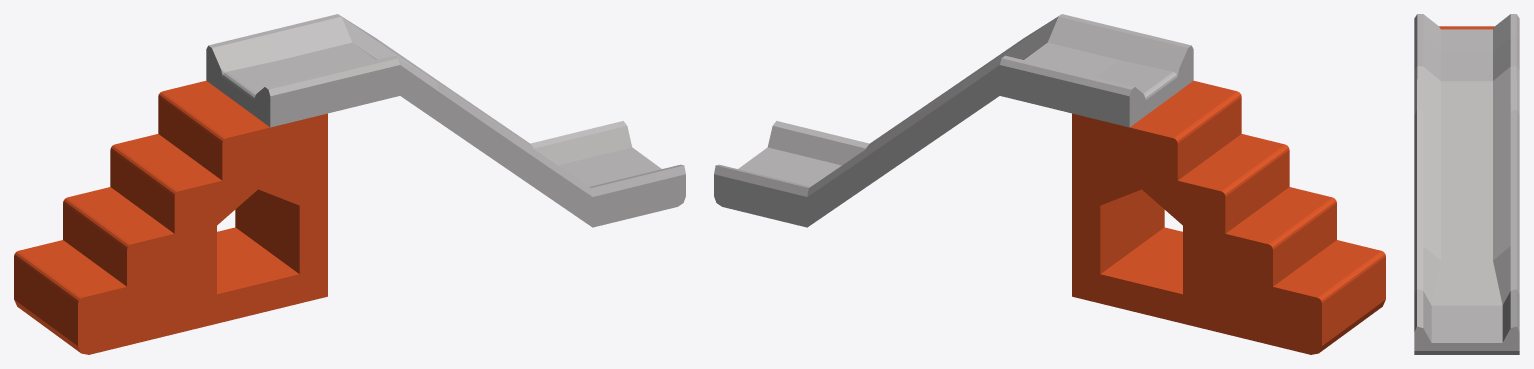
Rendered from Slider.fbx.
The picture shows the model from 3 angles, left to right: view 1: azimuth 30°, elevation 25°; view 2: azimuth 150°, elevation 25°; view 3: azimuth 270°, elevation 25°; orthographic projection. The views are drawn at different scales.
Visible parts, largest first — view 1: Cube; view 2: Cube; view 3: Cube.
Part boxes in pixels (left/top/right/bottom): Cube: left=14, top=14, right=685, bottom=354; Cube: left=714, top=14, right=1385, bottom=354; Cube: left=1414, top=14, right=1519, bottom=354.
Size of the model in its own units: 1013 by 350 by 185.
